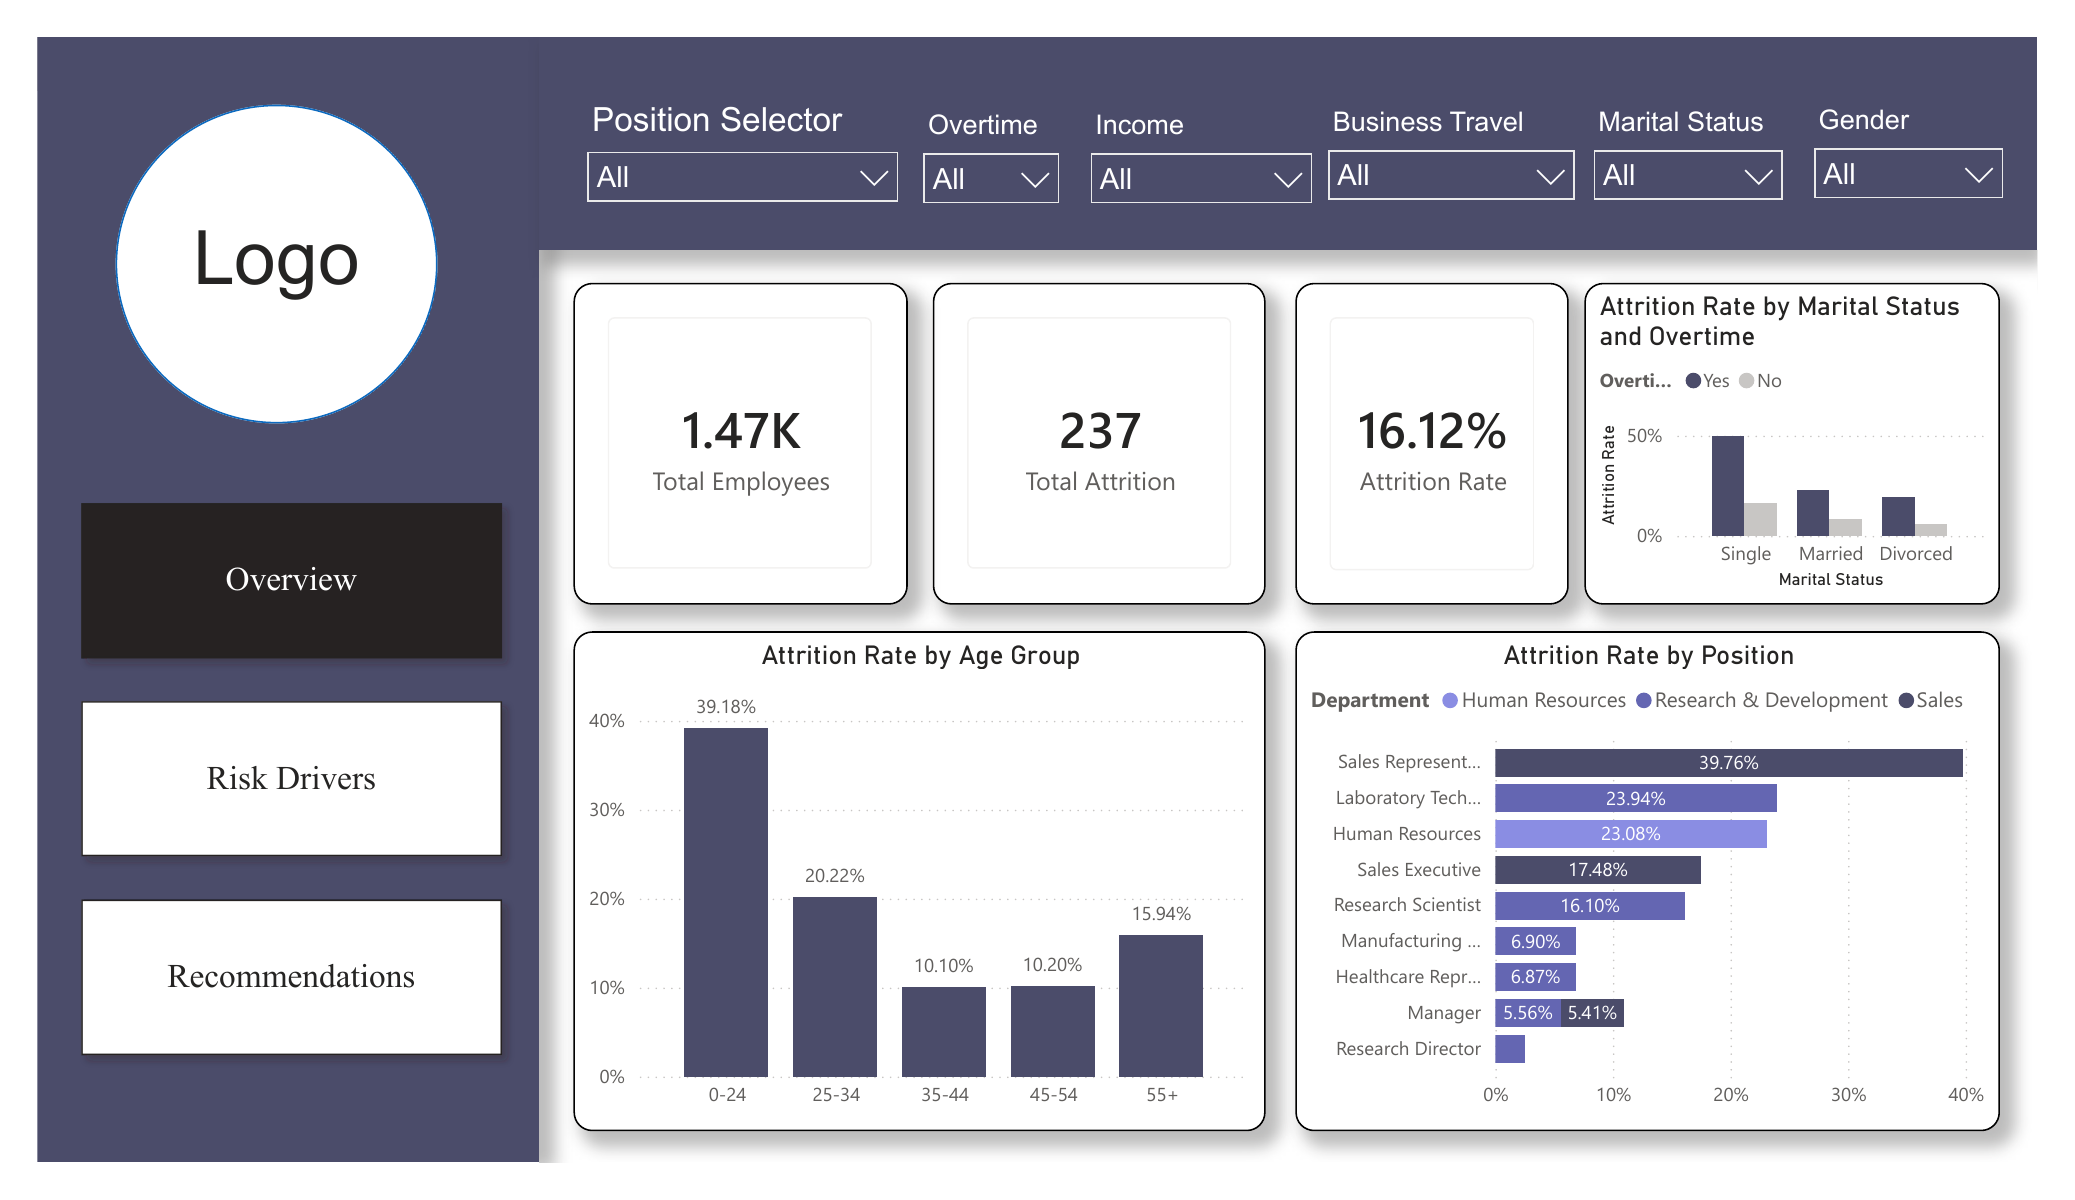

What the dashboard file says about the page in this screenshot:
{"tool":"powerbi","page":{"name":"Overview","canvas":[1280,720],"ordinal":0},"visuals":[{"type":"cardVisual","fields":{"Data":["Fact_Attrition.Attrition Count"]},"box":[572.6,156.9,213.8,205.8],"z":0},{"type":"cardVisual","fields":{"Data":["CountNonNull(Fact_Attrition.EmployeeNumber)"]},"box":[342.7,156.9,213.8,205.8],"z":1000},{"type":"cardVisual","fields":{"Data":["Fact_Attrition.Attrition Rate"]},"box":[805,157,175,206],"z":2000},{"type":"shape","box":[0,0,321,720],"z":3000},{"type":"columnChart","fields":{"Category":["Fact_Attrition.Age Group"],"Y":["Fact_Attrition.Attrition Rate"]},"box":[342.7,379.7,443.7,320.7],"z":4000},{"type":"barChart","title":"Attrition Rate by Position","fields":{"Y":["Fact_Attrition.Attrition Rate"],"Category":["Dim_JobRole.JobRole"],"Series":["Dim_Department.Department"]},"box":[805,380,451,320],"z":5000},{"type":"shape","box":[50,43,205.8,203.8],"z":6000},{"type":"shape","box":[321,0,959,136],"z":8000},{"type":"pageNavigator","box":[19,289,287,371],"z":9000},{"type":"slicer","fields":{"Values":["Dim_JobRole.JobRole"]},"box":[342.4,36,218.8,72.9],"z":10000},{"type":"slicer","fields":{"Values":["Fact_Attrition.IncomeRange"]},"box":[664.3,40.9,161.5,68.1],"z":11000},{"type":"slicer","fields":{"Values":["Dim_Demographics.BusinessTravel"]},"box":[816,38.9,178,68.1],"z":12000},{"type":"slicer","fields":{"Values":["Dim_Demographics.MaritalStatus"]},"box":[986.3,38.9,141,68.1],"z":13000},{"type":"slicer","fields":{"Values":["Dim_Demographics.Gender"]},"box":[1127.3,37.9,141,74.9],"z":14000},{"type":"clusteredColumnChart","fields":{"Category":["Dim_Demographics.MaritalStatus"],"Series":["Dim_Demographics.OverTime"],"Y":["Fact_Attrition.Attrition Rate"]},"box":[990,157,266,206],"z":15000},{"type":"slicer","fields":{"Values":["Dim_Demographics.OverTime"]},"box":[557.3,40.9,107,68.1],"z":16000},{"type":"textbox","box":[81.7,108.9,142,71],"z":16001}]}

Visuals, with their boxes on the page's 1280x720 design canvas (x1, y1, x2, y2). These are canvas units, not pixel positions in the 2075x1200 screenshot, which may show the page scaled, cropped or inside an application window:
cardVisual - Fact_Attrition.Attrition Count: 573,157,786,363
cardVisual - CountNonNull(Fact_Attrition.EmployeeNumber): 343,157,556,363
cardVisual - Fact_Attrition.Attrition Rate: 805,157,980,363
shape: 0,0,321,720
columnChart - Fact_Attrition.Age Group x Fact_Attrition.Attrition Rate: 343,380,786,700
"Attrition Rate by Position" barChart: 805,380,1256,700
shape: 50,43,256,247
shape: 321,0,1280,136
pageNavigator: 19,289,306,660
slicer - Dim_JobRole.JobRole: 342,36,561,109
slicer - Fact_Attrition.IncomeRange: 664,41,826,109
slicer - Dim_Demographics.BusinessTravel: 816,39,994,107
slicer - Dim_Demographics.MaritalStatus: 986,39,1127,107
slicer - Dim_Demographics.Gender: 1127,38,1268,113
clusteredColumnChart - Dim_Demographics.MaritalStatus x Dim_Demographics.OverTime: 990,157,1256,363
slicer - Dim_Demographics.OverTime: 557,41,664,109
textbox: 82,109,224,180
